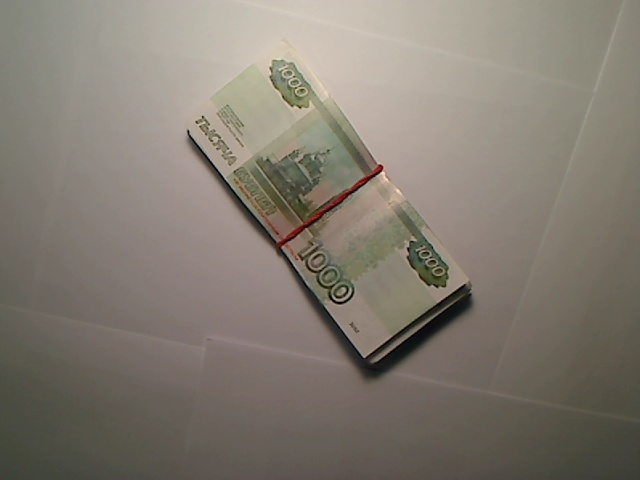banknotes: (179, 39, 479, 372)
